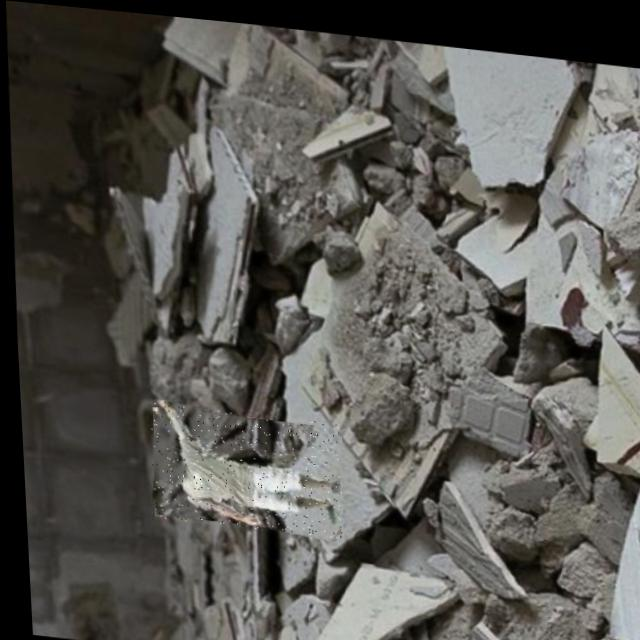Person in Rubble: (143, 399, 339, 532)
